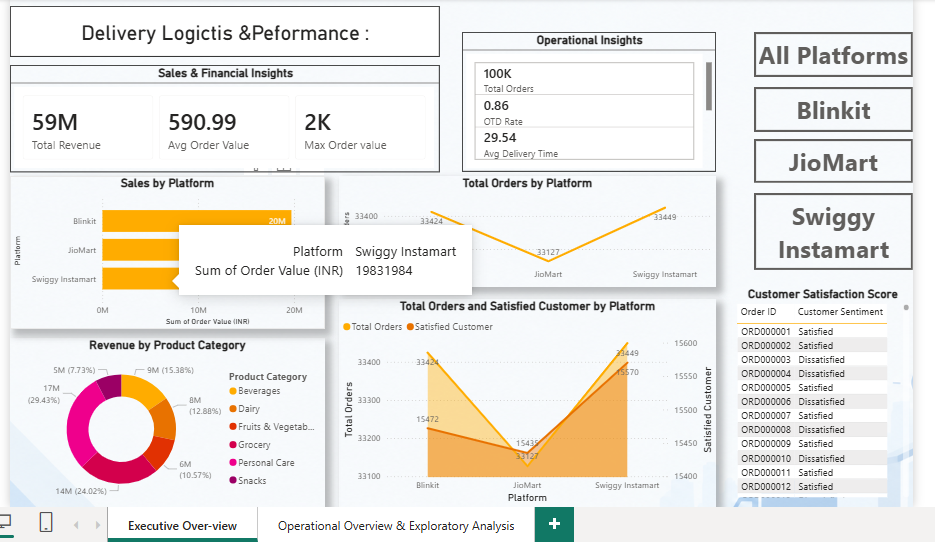

Layout of this report page (visuals, bound fields, positions):
{"tool":"powerbi","page":{"name":"Executive Over-view ","canvas":[1280,720],"ordinal":0},"visuals":[{"type":"actionButton","title":"JioMart","box":[1054.5,198.4,225.4,62.4],"z":0},{"type":"actionButton","title":"Swiggy","box":[1054.5,275,225.4,109.1],"z":1000},{"type":"actionButton","title":"Blinkit","box":[1054.5,124.7,225.4,63.8],"z":2000},{"type":"barChart","title":"Sales by Platform ","fields":{"Category":["Ecommerce_Delivery_Analytics_Ne.Platform"],"Y":["Sum(Ecommerce_Delivery_Analytics_Ne.Order Value (INR))"]},"box":[0,250.9,446.5,216.9],"z":3000},{"type":"actionButton","title":"Blinkit","box":[1054.5,46.8,225.4,63.8],"z":4000},{"type":"cardVisual","title":"Sales & Financial Insights ","fields":{"Data":["Blinkit Data.Total Revenue","Ecommerce_Delivery_Analytics_Ne.Avg Order Value","Blinkit Data.Max Order value"]},"box":[0,93.5,609.4,151.7],"z":6000},{"type":"cardVisual","title":"Operational Insights ","fields":{"Data":["Ecommerce_Delivery_Analytics_Ne.Total Orders","Ecommerce_Delivery_Analytics_Ne.OTD Rate","Ecommerce_Delivery_Analytics_Ne.Avg Delivery Time","Ecommerce_Delivery_Analytics_Ne.Avg Order Value","Blinkit Data.items missing from order","Blinkit Data.Wrong items delivered"]},"box":[640.6,46.8,360,198.4],"z":7000},{"type":"lineChart","fields":{"Y":["Ecommerce_Delivery_Analytics_Ne.Total Orders"],"Category":["Ecommerce_Delivery_Analytics_Ne.Platform"]},"box":[466.3,250.9,534.3,157.3],"z":8000},{"type":"donutChart","title":" Revenue by Product Category","fields":{"Category":["Ecommerce_Delivery_Analytics_Ne.Product Category"],"Y":["Blinkit Data.Total Revenue"]},"box":[0,480.5,446.5,239.5],"z":9000},{"type":"card","fields":{"Values":["Blinkit Data.Report tittle"]},"box":[0,9.9,609.4,72.3],"z":10000},{"type":"tableEx","title":"Customer Satisfaction  Score ","fields":{"Values":["Ecommerce_Delivery_Analytics_Ne.Order ID","Ecommerce_Delivery_Analytics_Ne.Customer Sentiment"]},"box":[1024.7,408.2,255.1,303.3],"z":11000},{"type":"areaChart","fields":{"Category":["Ecommerce_Delivery_Analytics_Ne.Platform"],"Y":["Ecommerce_Delivery_Analytics_Ne.Total Orders"],"Y2":["Ecommerce_Delivery_Analytics_Ne.Satisfied Customer"]},"box":[466.3,425.2,534.3,294.8],"z":12000}]}

Visuals, with their boxes on the page's 1280x720 design canvas (x1, y1, x2, y2). These are canvas units, not pixel positions in the 935x542 screenshot, which may show the page scaled, cropped or inside an application window:
"JioMart" actionButton: [left=1054, top=198, right=1280, bottom=261]
"Swiggy" actionButton: [left=1054, top=275, right=1280, bottom=384]
"Blinkit" actionButton: [left=1054, top=125, right=1280, bottom=188]
"Sales by Platform " barChart: [left=0, top=251, right=446, bottom=468]
"Blinkit" actionButton: [left=1054, top=47, right=1280, bottom=111]
"Sales & Financial Insights " cardVisual: [left=0, top=94, right=609, bottom=245]
"Operational Insights " cardVisual: [left=641, top=47, right=1001, bottom=245]
lineChart - Ecommerce_Delivery_Analytics_Ne.Total Orders x Ecommerce_Delivery_Analytics_Ne.Platform: [left=466, top=251, right=1001, bottom=408]
" Revenue by Product Category" donutChart: [left=0, top=480, right=446, bottom=720]
card - Blinkit Data.Report tittle: [left=0, top=10, right=609, bottom=82]
"Customer Satisfaction  Score " tableEx: [left=1025, top=408, right=1280, bottom=712]
areaChart - Ecommerce_Delivery_Analytics_Ne.Platform x Ecommerce_Delivery_Analytics_Ne.Total Orders: [left=466, top=425, right=1001, bottom=720]
